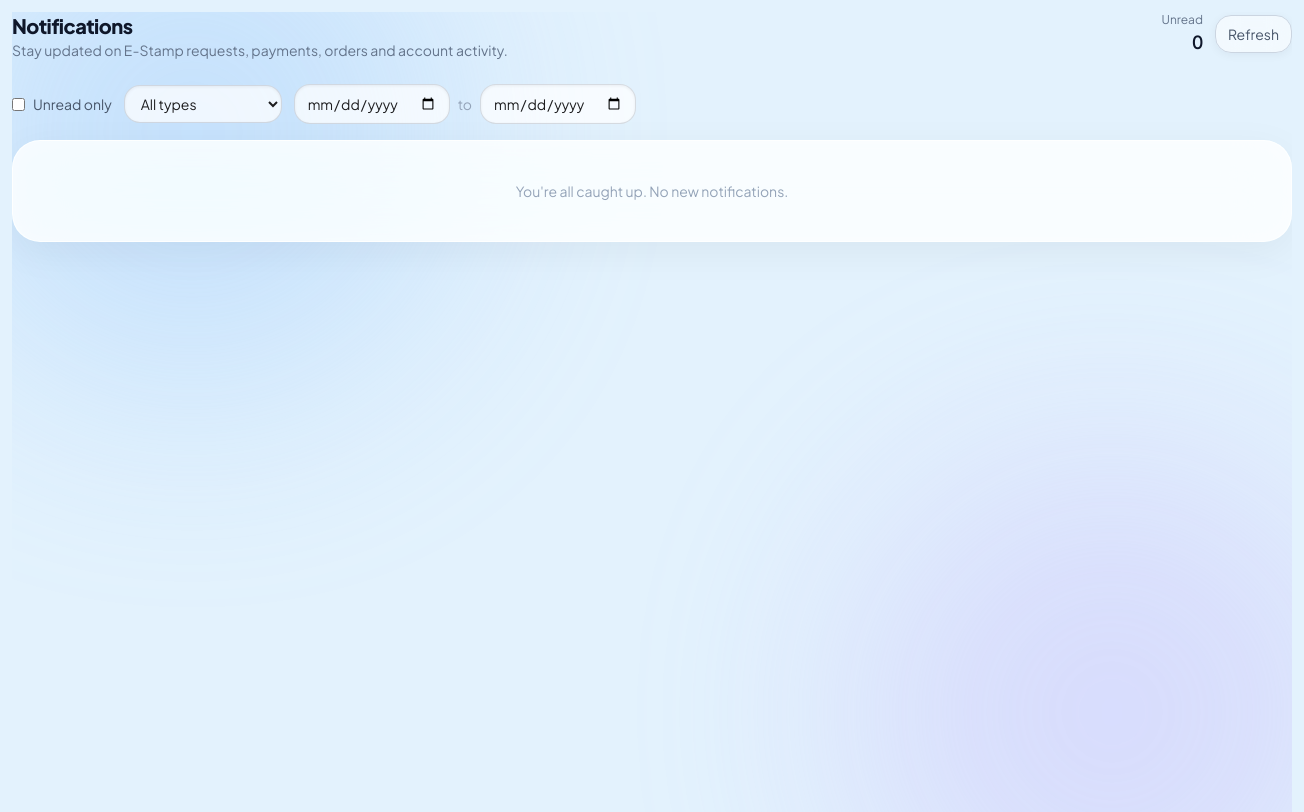
Test case: NotificationsPage - list and unread count › shows a filtered empty state distinct from the base empty state
Check: the text "You're all caught up. No new notifications." is shown, box [516,182,788,200]
What coordinates should you click on to do the following:
click the checkbox labelled "Unread only"
I would click on:
 (18, 104)
Its box is [12,98,25,110].
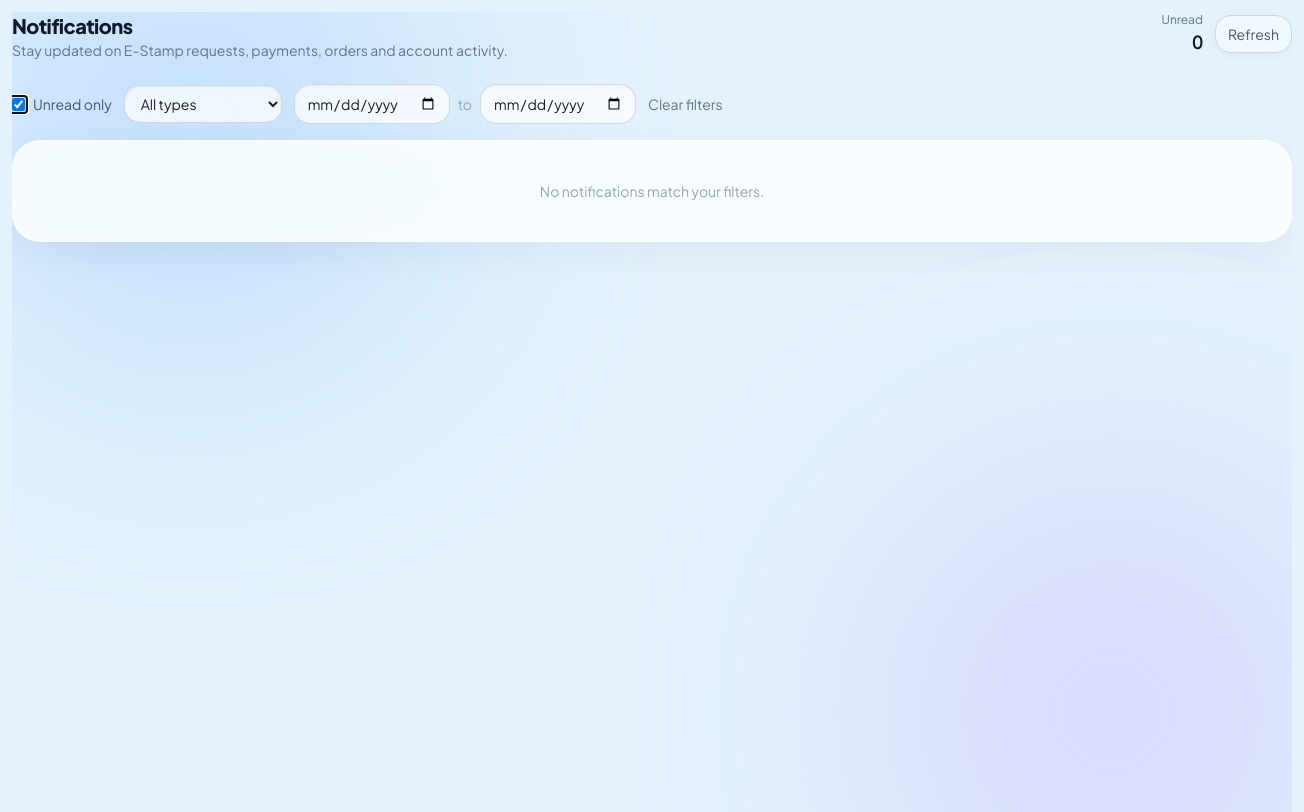
Check: the text "No notifications match your filters." is shown, box [540,182,764,200]
